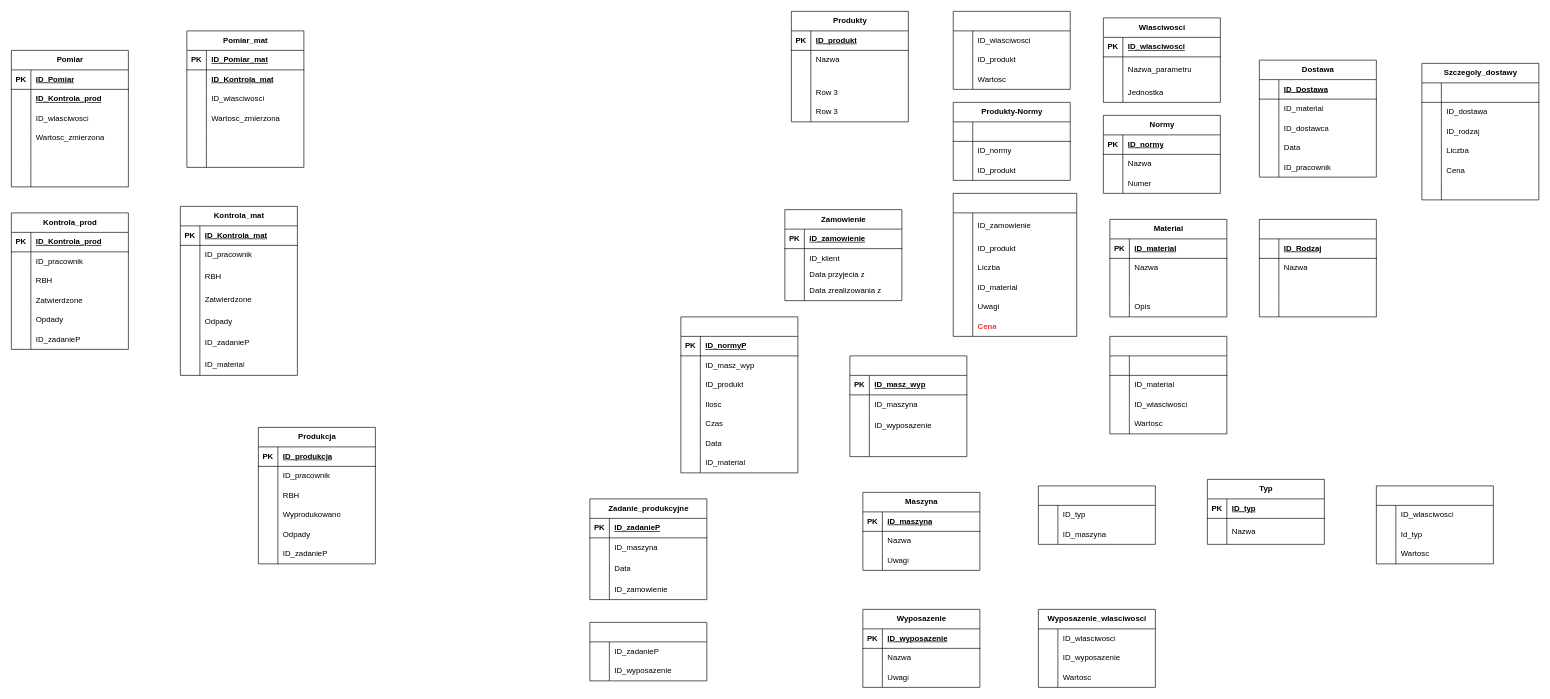
Image size: 1550x699. Some labels were removed from this diagram. Each missing label, with the box of its shape:
Maszyna_typ: (1038, 485, 1155, 544)
Maszyna_wyp: (849, 355, 967, 457)
Material-Wlasc: (1109, 336, 1227, 434)
Norma_prod: (680, 316, 798, 473)
Produkty_wlasciwosci: (953, 11, 1070, 89)
Rodzaj_mat: (1259, 219, 1376, 317)
Szczegoly_zamowienia: (953, 193, 1077, 336)
Typ_wlasciwosci: (1376, 485, 1493, 564)
Zadanie_wyp: (589, 622, 707, 681)
